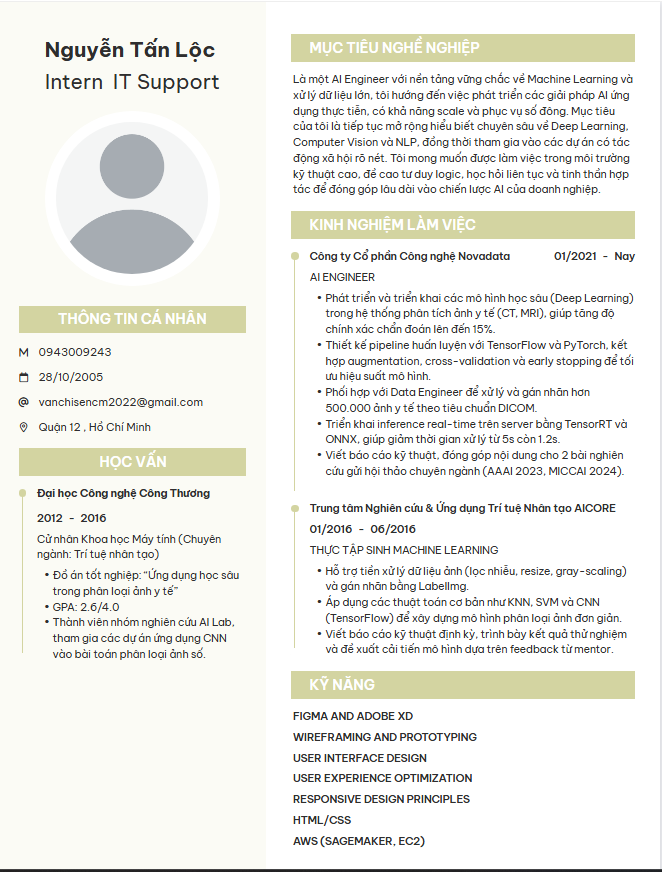address: (12, 414, 158, 440)
gpa: (43, 597, 123, 614)
level: (42, 66, 108, 95)
position: (110, 64, 226, 100)
skill: (284, 663, 650, 858)
